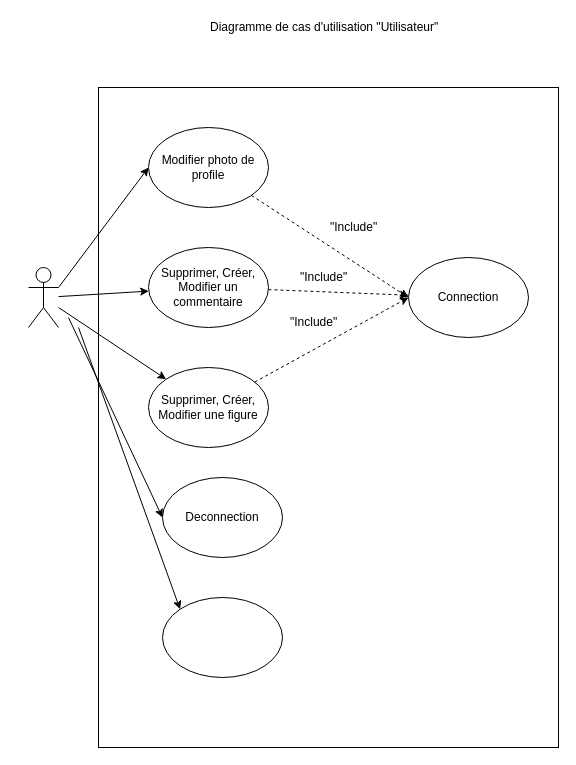
The diagram is 576 pixels wide and 765 high, and some of its shapes have lost their labels. Each missing label, with the centre of its shape:
"Demander un nouveau mdp" goes at pixel 222 637.
"Utilisateur" goes at pixel 43 297.
